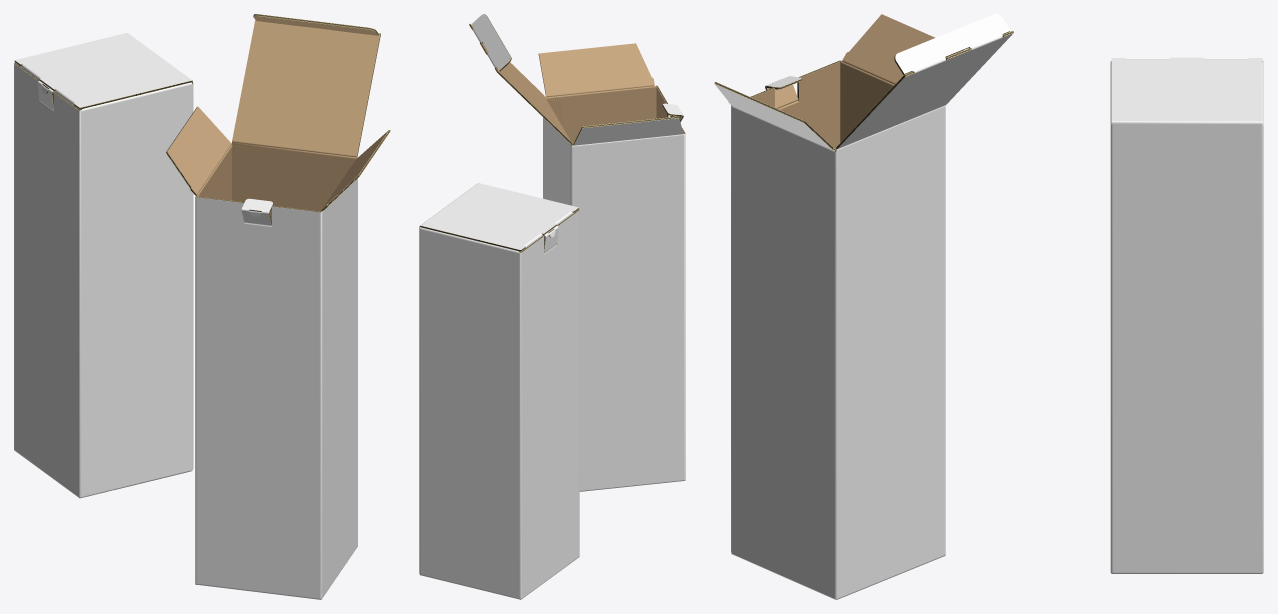
File: TroquelComedero.gltf
The picture shows the model from 3 angles, left to right: view 1: azimuth 30°, elevation 25°; view 2: azimuth 150°, elevation 25°; view 3: azimuth 270°, elevation 25°; orthographic projection. The views are drawn at different scales.
Parts seen in each view (by area): view 1: RRR; view 2: RRR; view 3: RRR.
Boxes of the visible parts, x1,y1,x2,y2 form: RRR: (14, 14, 390, 599); RRR: (419, 14, 685, 599); RRR: (714, 14, 1263, 599).
Size of what is drawn, in the model's own units: 0.3994 by 0.8326 by 0.7291.
Materials: 6 (2 with a texture image).
